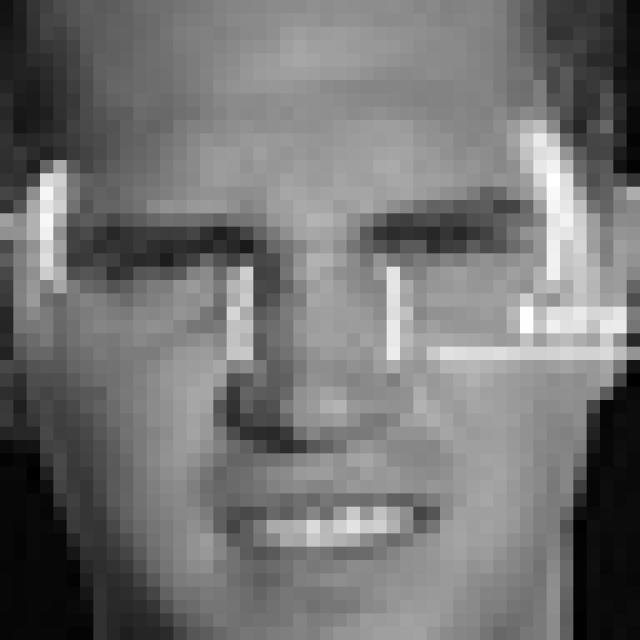disgust: (81, 186, 550, 590)
